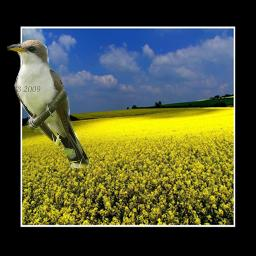Cuckoo: (7, 38, 89, 168)
